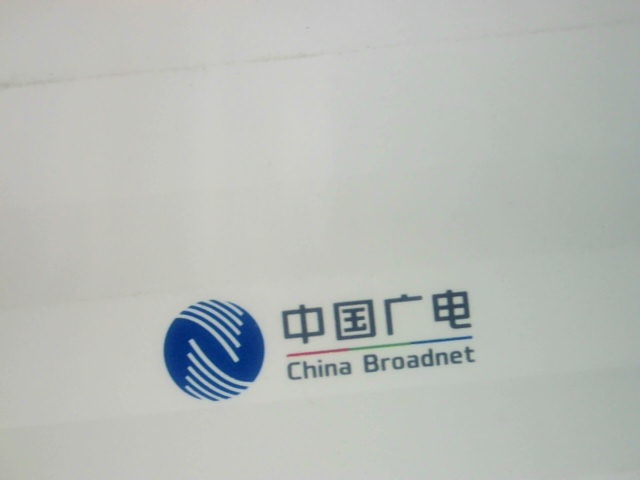AW_ChinaBroadNet: (156, 279, 489, 405)
